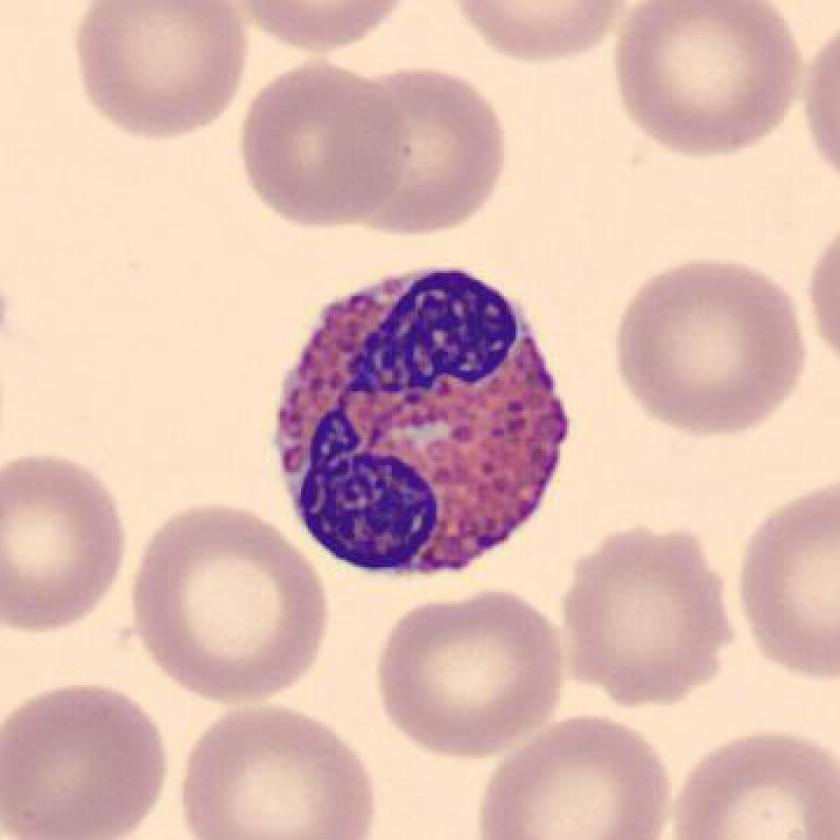eosinophil: (253, 253, 584, 598)
